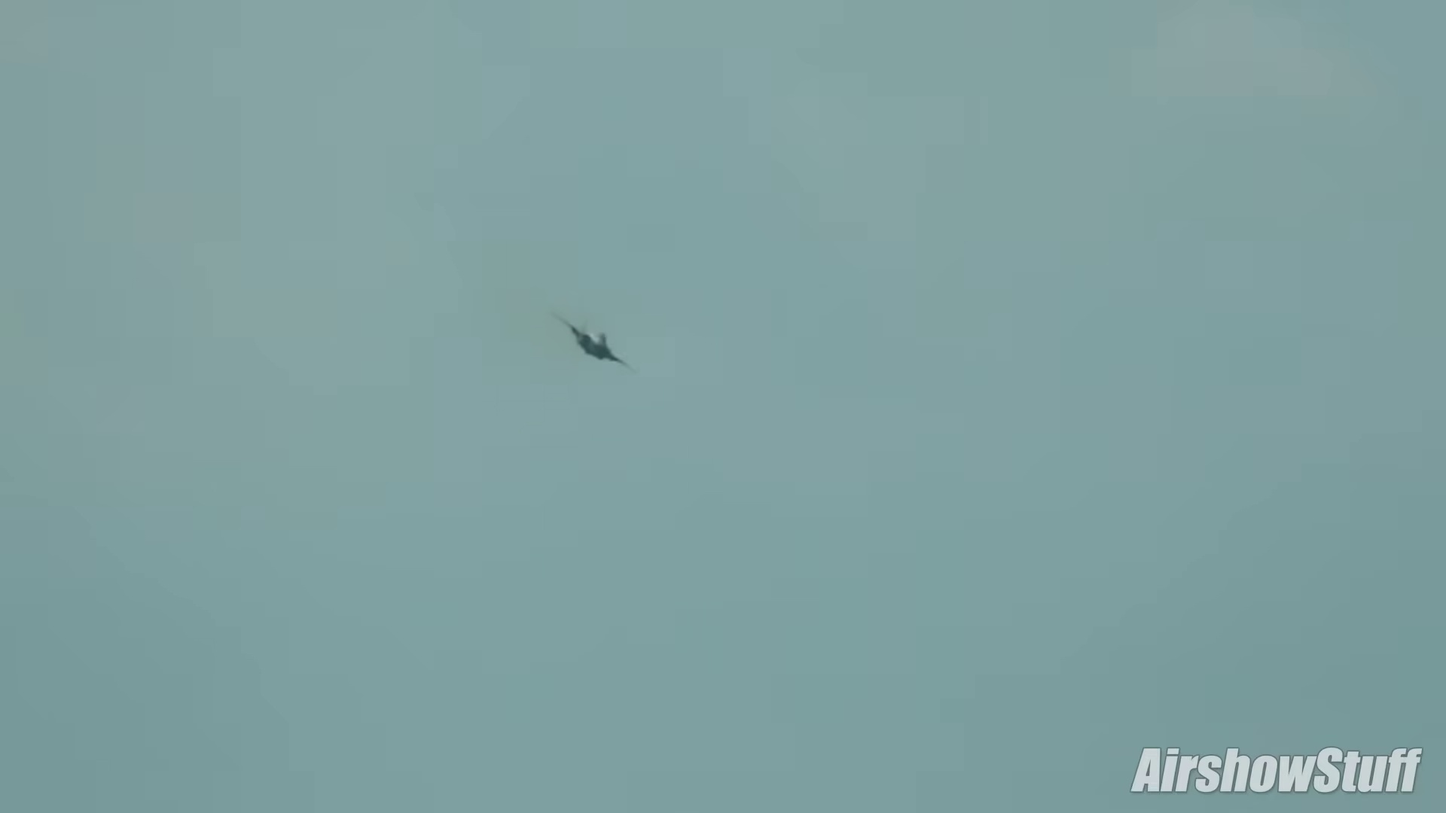F35: (550, 306, 634, 376)
